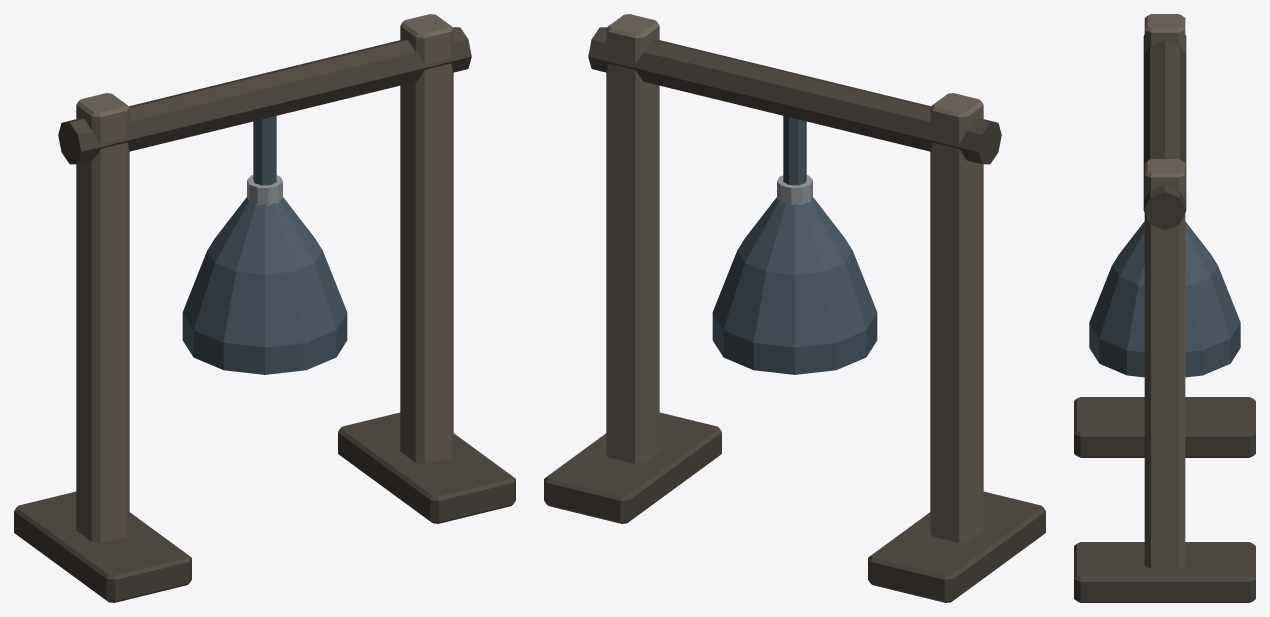
File: small-bell-frame.glb
3 renders of one model, left to right at view 1: azimuth 30°, elevation 25°; view 2: azimuth 150°, elevation 25°; view 3: azimuth 270°, elevation 25°, orthographic. The views are drawn at different scales.
Parts seen in each view (by area): view 1: small-bell-frame__body; view 2: small-bell-frame__body; view 3: small-bell-frame__body.
Boxes of the visible parts, left/top/right/bottom form: small-bell-frame__body: left=14, top=14, right=515, bottom=602; small-bell-frame__body: left=544, top=14, right=1045, bottom=602; small-bell-frame__body: left=1074, top=14, right=1255, bottom=602.
Size of the model in its own units: 0.86 by 0.915 by 0.36.
